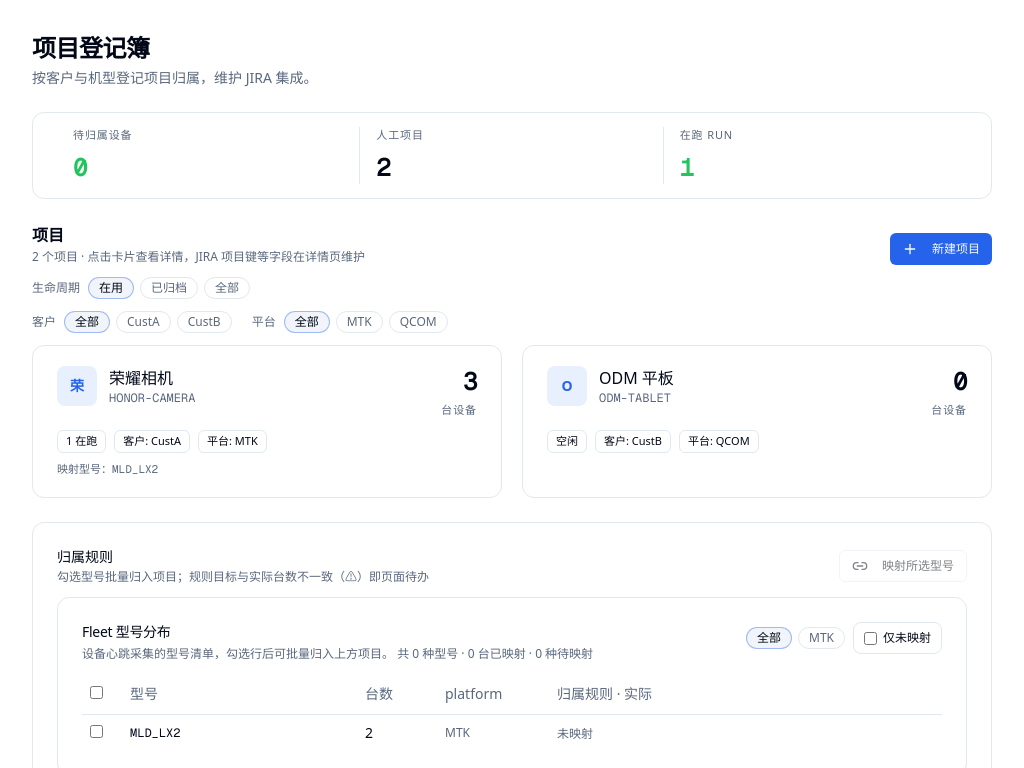
Test: ProjectsPage › keeps apply disabled when preview reports conflicts
Expected: the text "MLD_LX2" is shown, x1=122 y1=714 x2=357 y2=750
Click the checkbox with test id "inventory-model-check" at [96, 731], box x1=90 y1=724 x2=103 y2=738
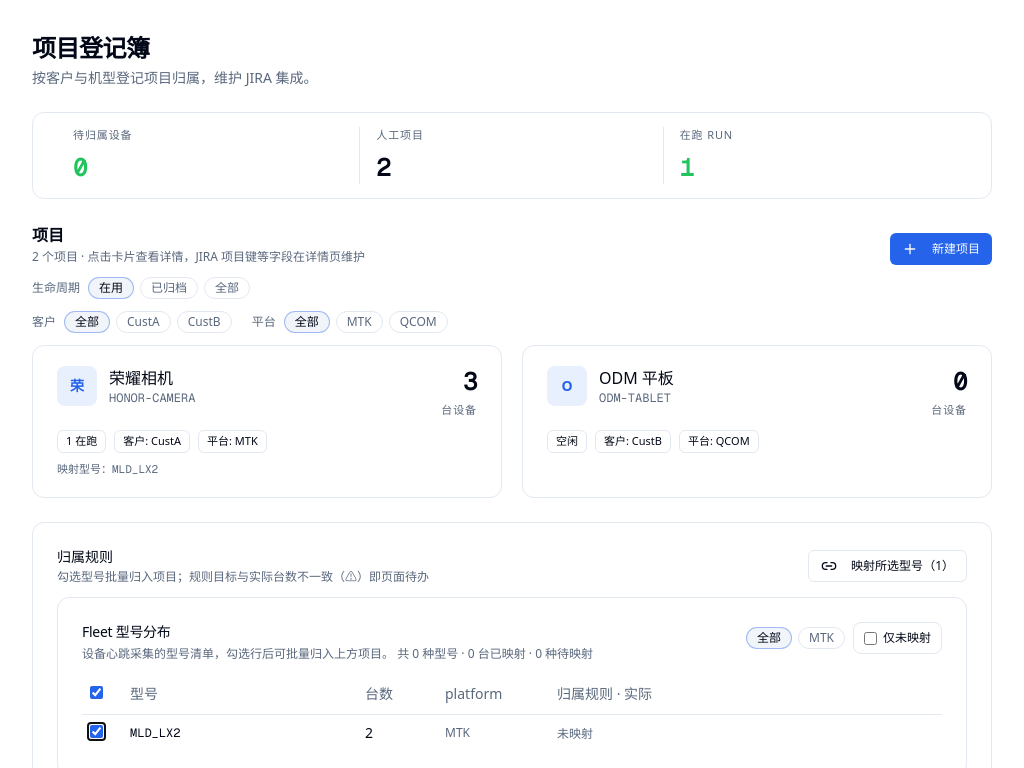
Click the button with test id "map-models-open" at [888, 566], box x1=808 y1=550 x2=967 y2=582
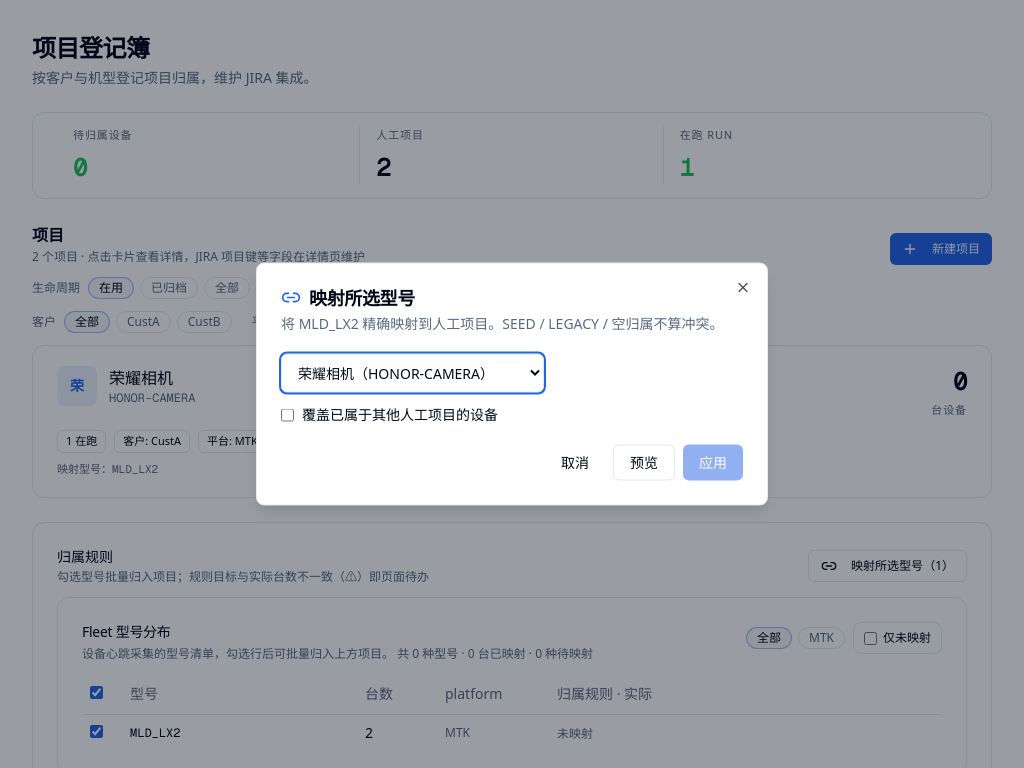
Click the button with test id "map-preview-btn" at [644, 462], box x1=613 y1=444 x2=675 y2=480
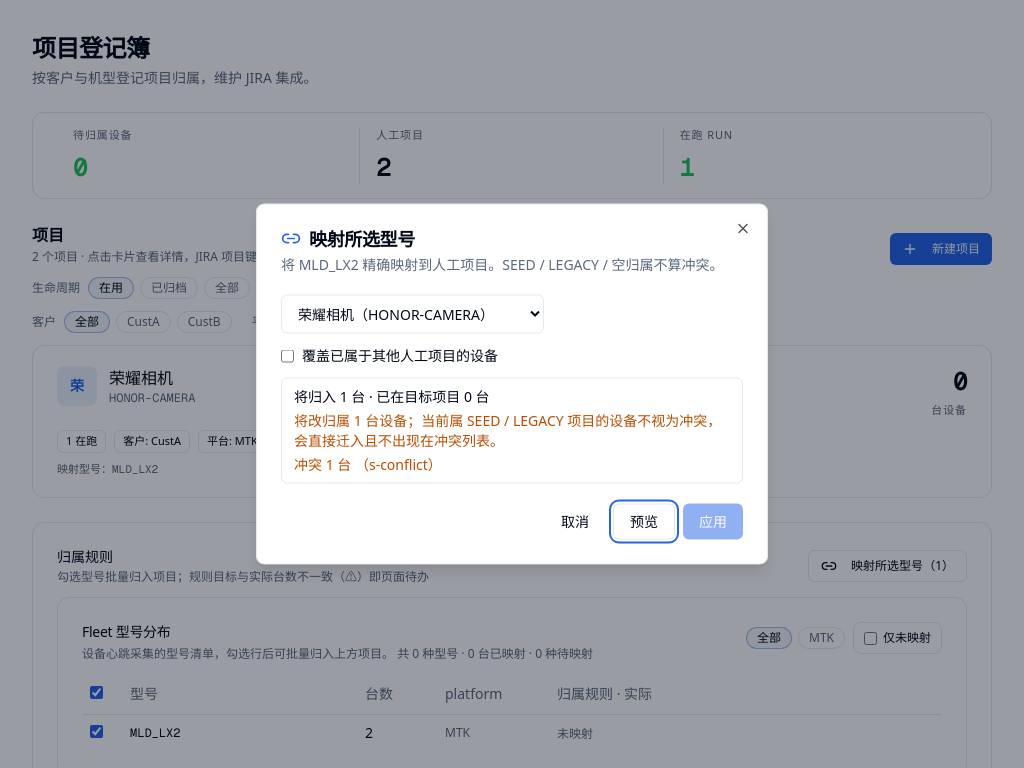
Expected: the button with test id "map-apply-btn" is disabled, x1=683 y1=504 x2=743 y2=540
Expected: the element with test id "map-preview" shows "冲突 1 台", x1=281 y1=378 x2=743 y2=484
